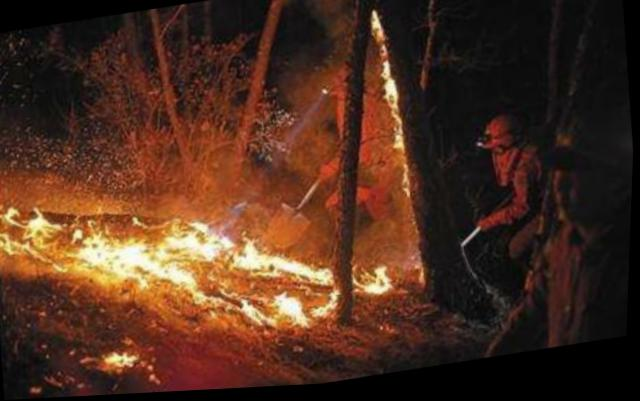fire: (0, 5, 439, 392)
